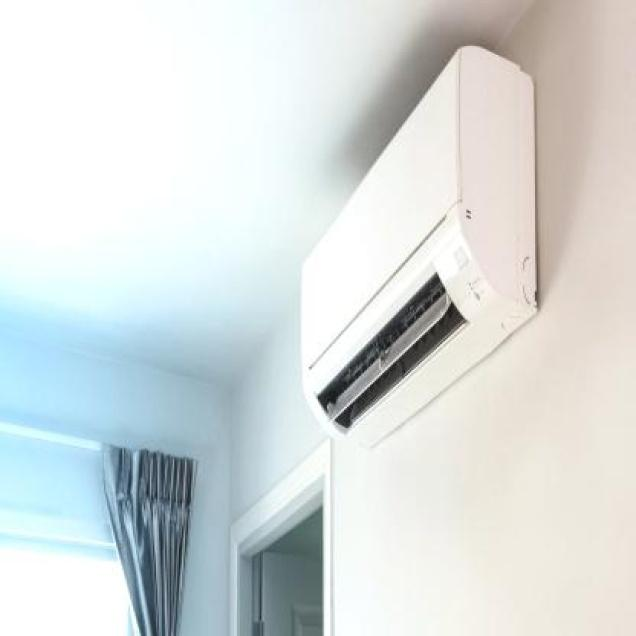AC: (296, 41, 537, 450)
